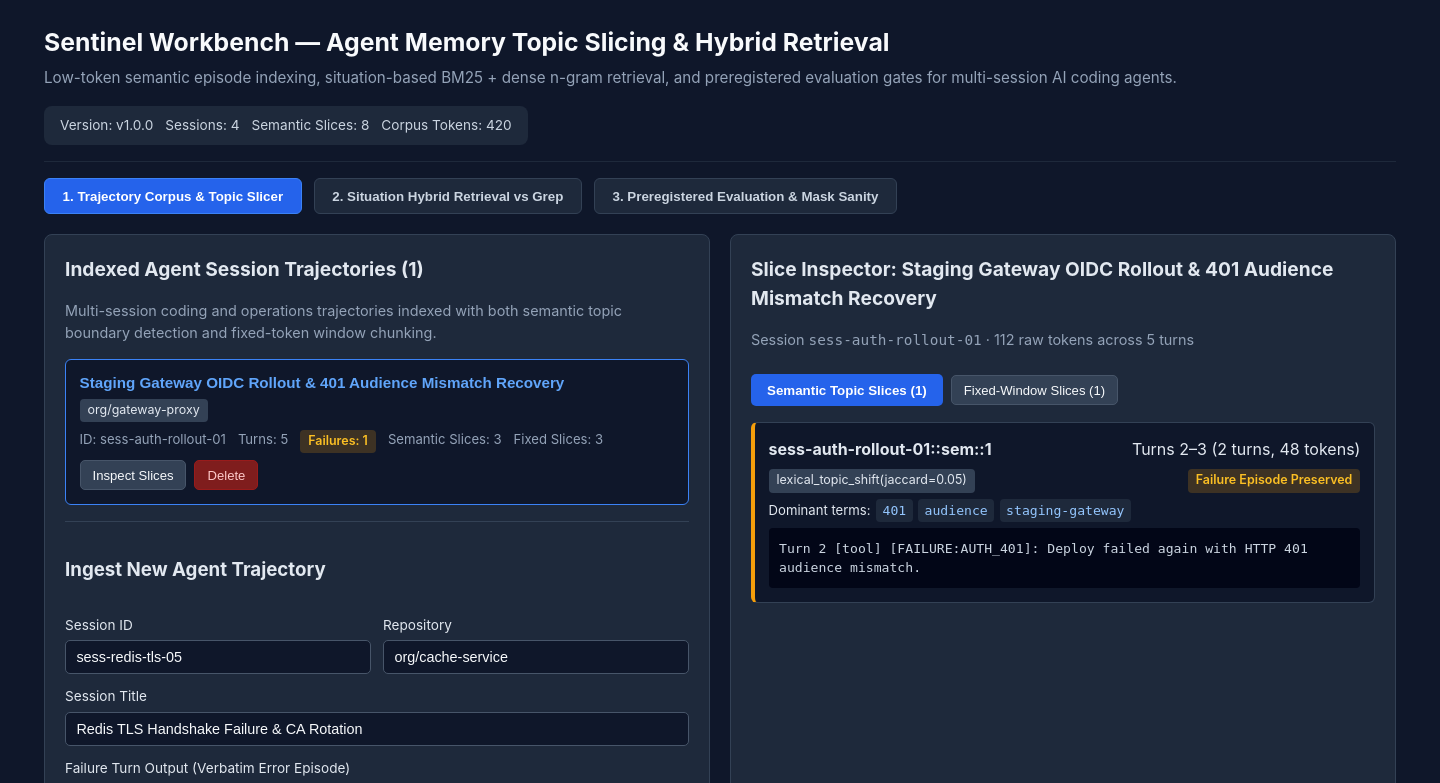
Scenario: Sentinel Workbench UI › switches to the Situation Hybrid Retrieval tab and displays token reduction metrics
The image size is (1440, 783).
Expected: the text "Version: v1.0.0" is shown, 60,115 -> 153,136
Step 1. Click the button "2. Situation Hybrid Retrieval vs Grep" → (448,196), box 314,178 -> 582,214
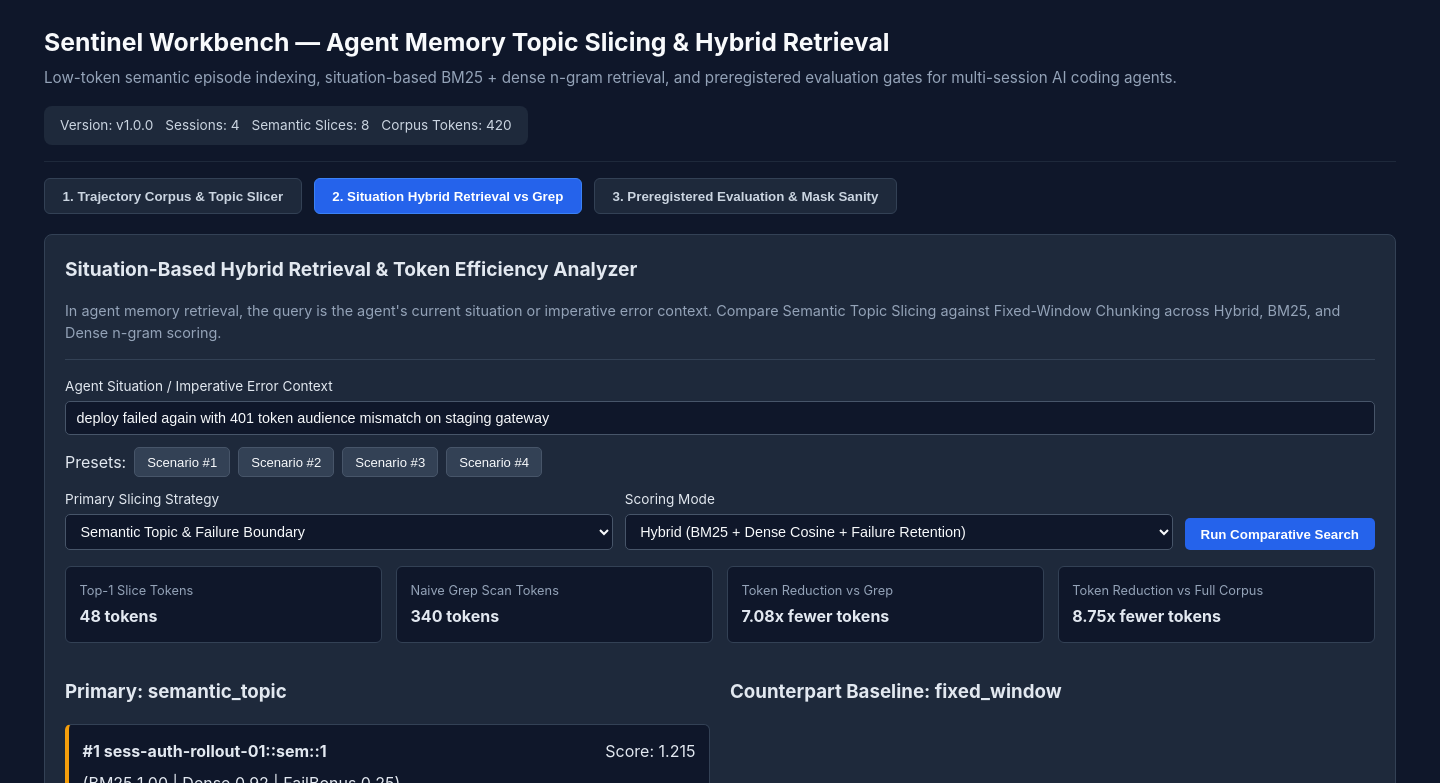
Result: the text "7.08x fewer tokens" is shown at 741,606 -> 889,626
Result: the text "#1 sess-auth-rollout-01::sem::1" is shown at 83,739 -> 327,763
